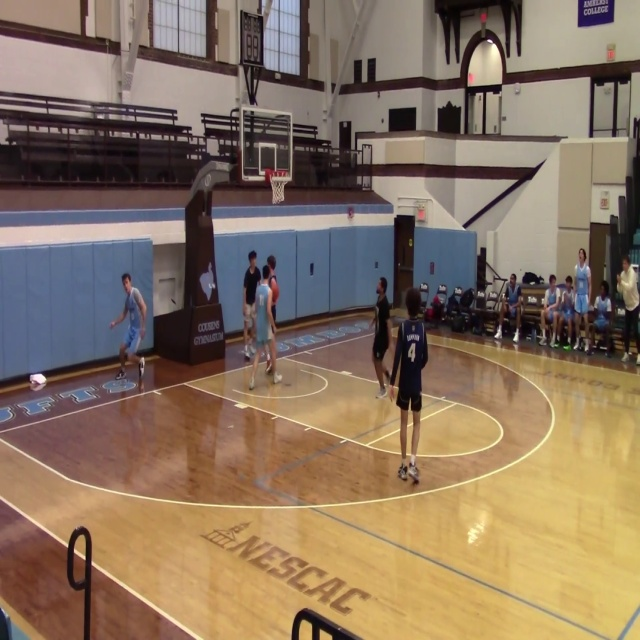Basketball: (29, 373, 47, 391), (269, 277, 279, 303), (420, 282, 428, 291)
